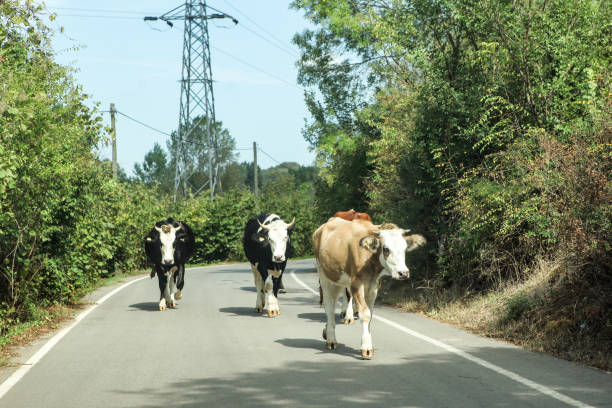inek: (305, 210, 426, 374), (236, 208, 304, 310), (138, 216, 200, 301)
